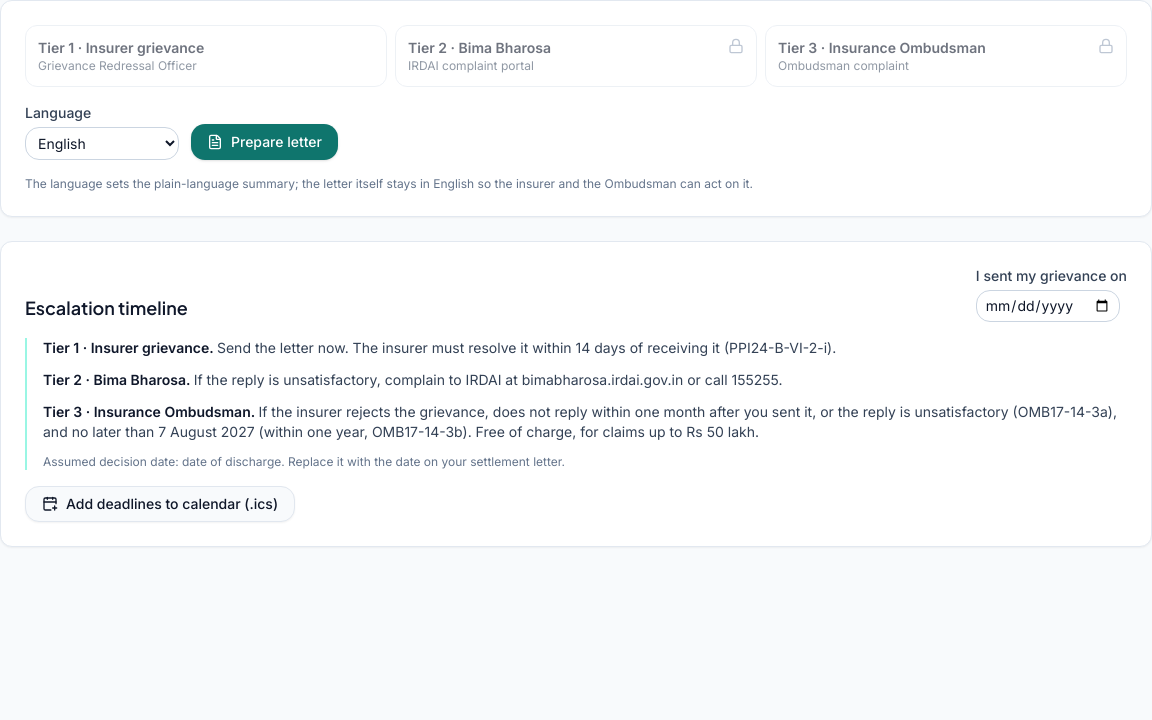
Test: ActionCentre: letter, timeline and exports › downloads the edited letter as a branded PDF rendered by the backend
Click the button "Prepare letter". click: (264, 142)
box: [191, 124, 338, 160]
(page scrolled)
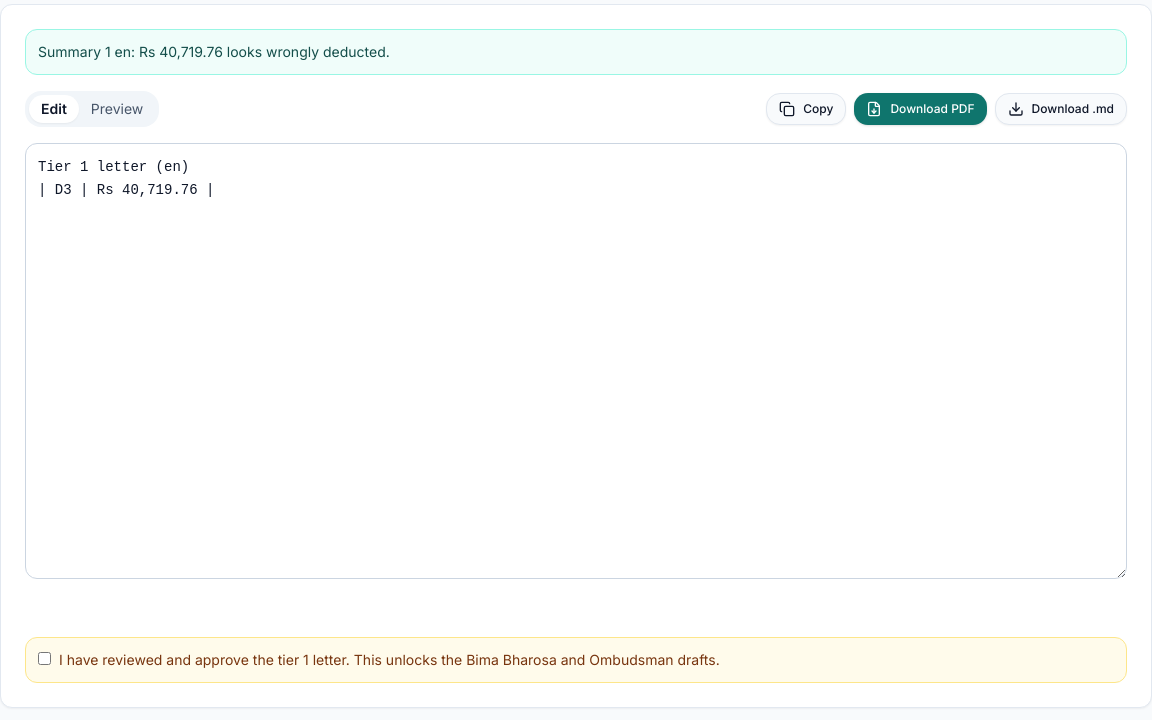
Result: the text box showing "Tier 1 letter" is shown
Replace the text in the text box named "Letter" with "My edited letter". click: (576, 361)
box: [25, 143, 1127, 578]
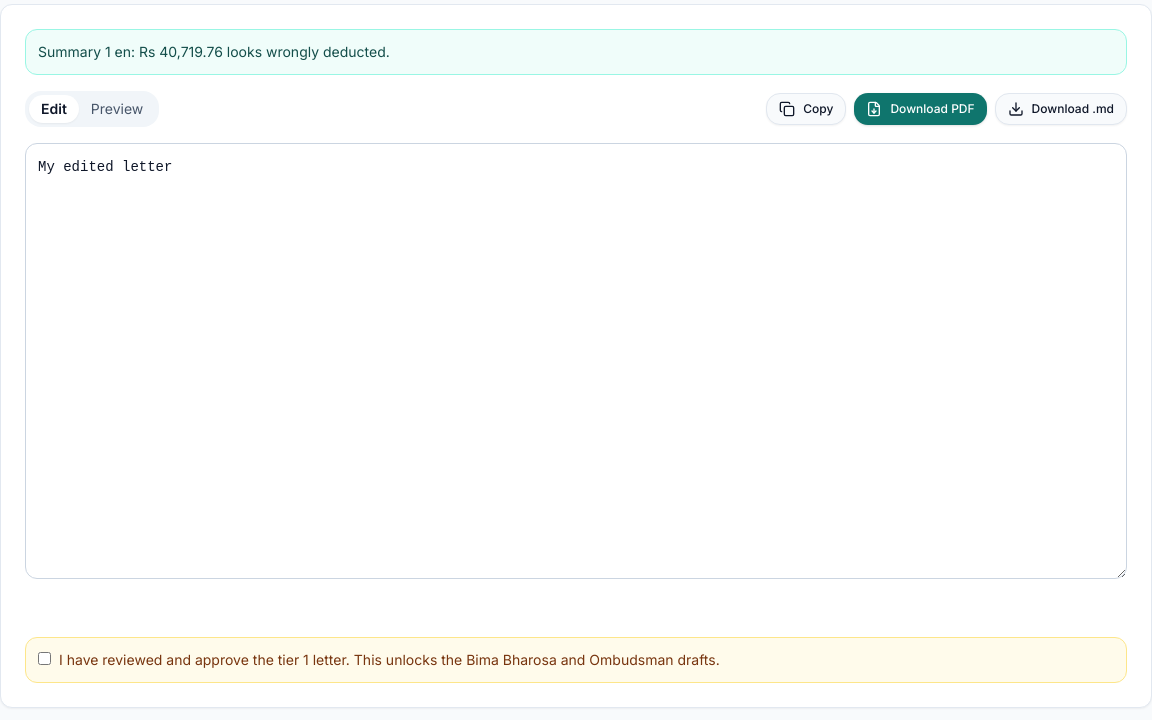
Click the button "Download PDF". click: (920, 109)
box: [854, 93, 986, 125]
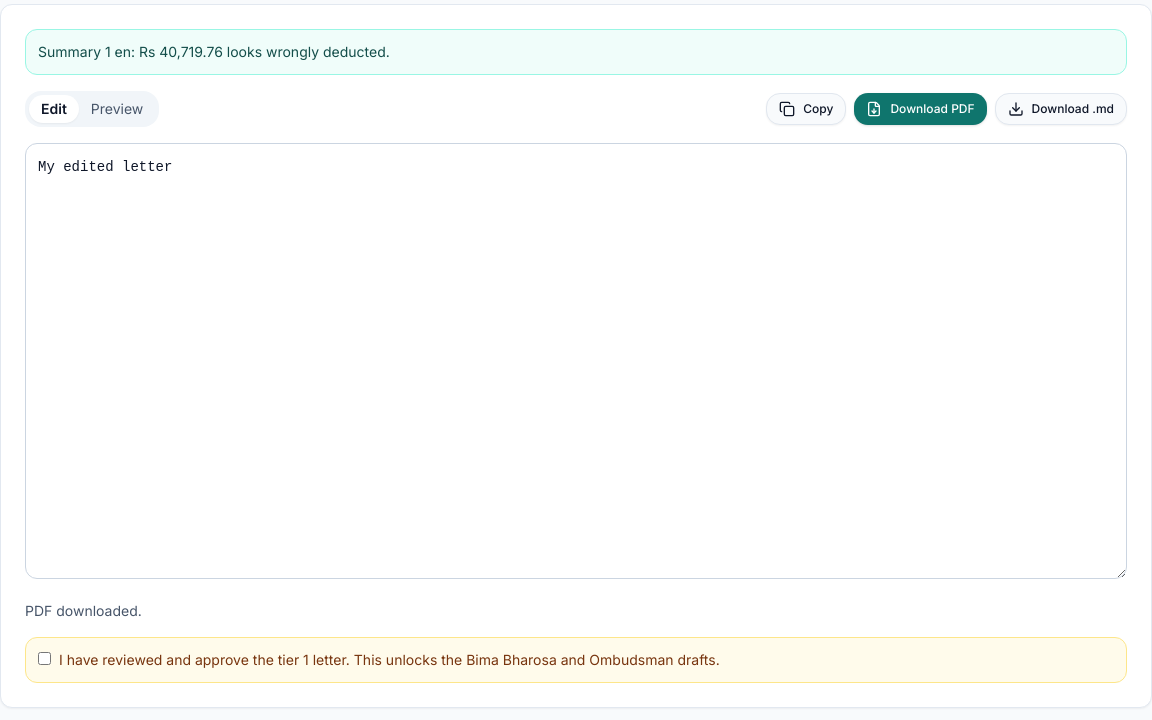
Result: the text "PDF downloaded." is shown at [25, 602, 142, 618]
